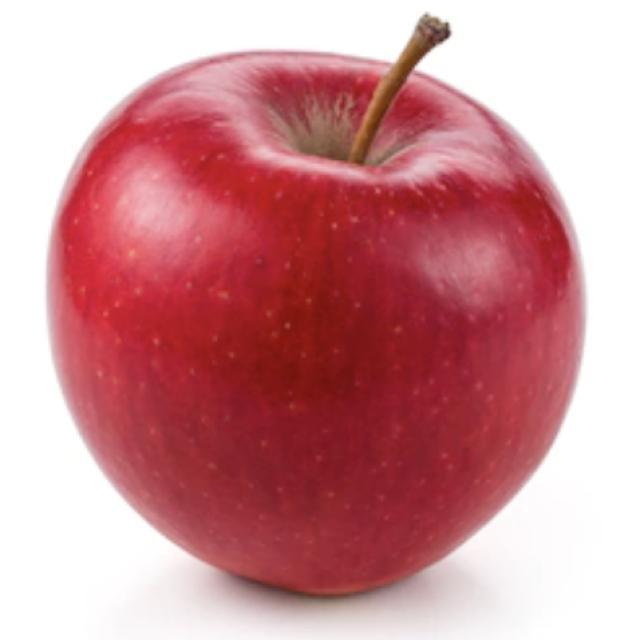Apple: (44, 12, 587, 598)
